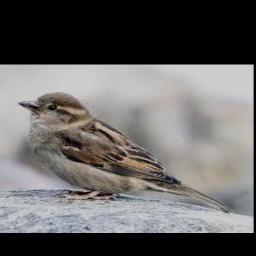Sparrow: (20, 92, 233, 213)
